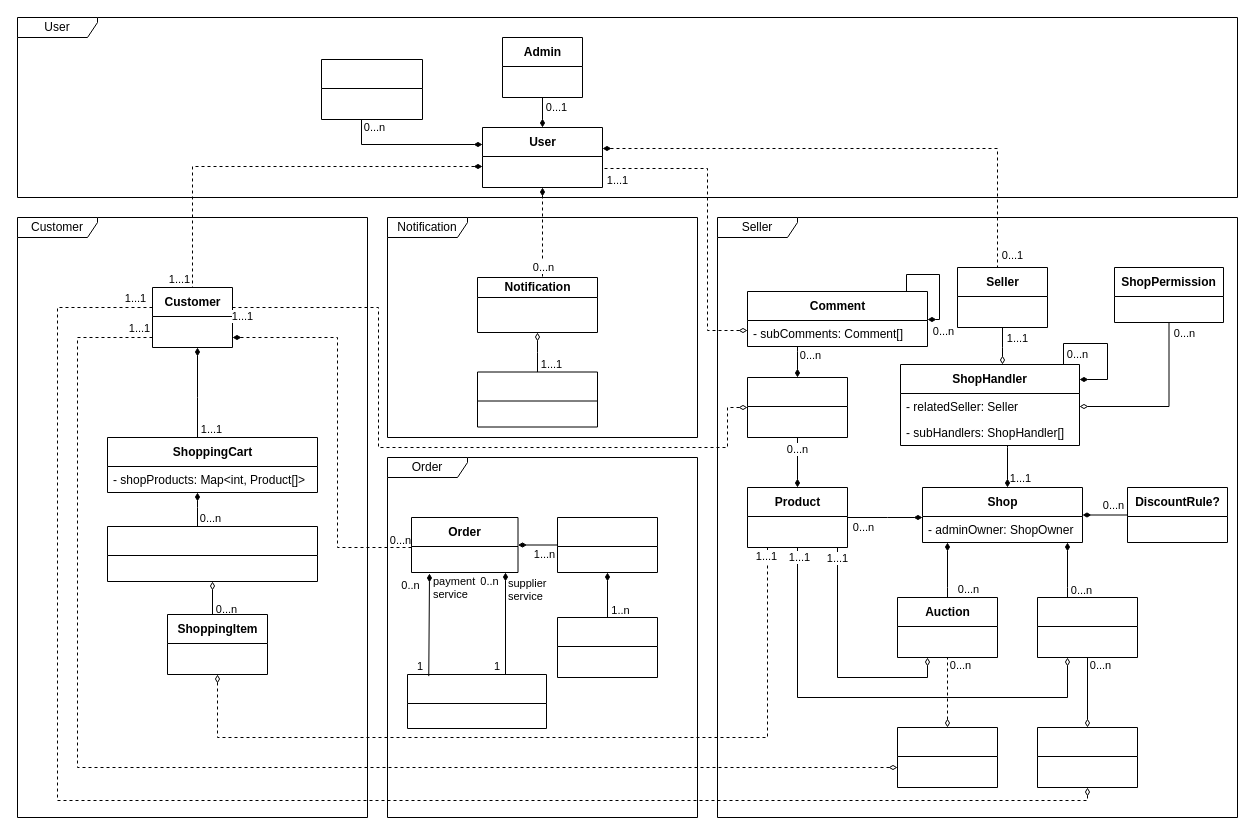
Image size: 1255x835. Some labels were removed from this diagram. Here are the shapes that lost their labels. From the top down, the centre of each, then its label:
pixel 371 89: UserPermission
pixel 537 399: NotificationType
pixel 797 407: Review
pixel 212 554: ShoppingBasket
pixel 607 544: OrderBasket
pixel 607 647: OrderItem
pixel 1087 627: Raffle
pixel 476 701: ExternalServiceContact
pixel 947 757: AuctionBid
pixel 1087 757: RaffleBid
